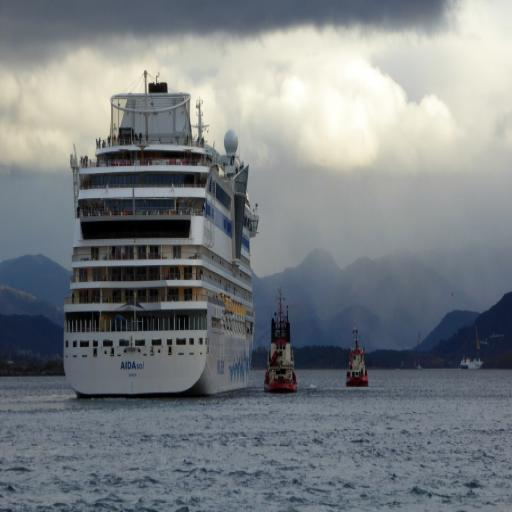cruises: (56, 67, 261, 396)
